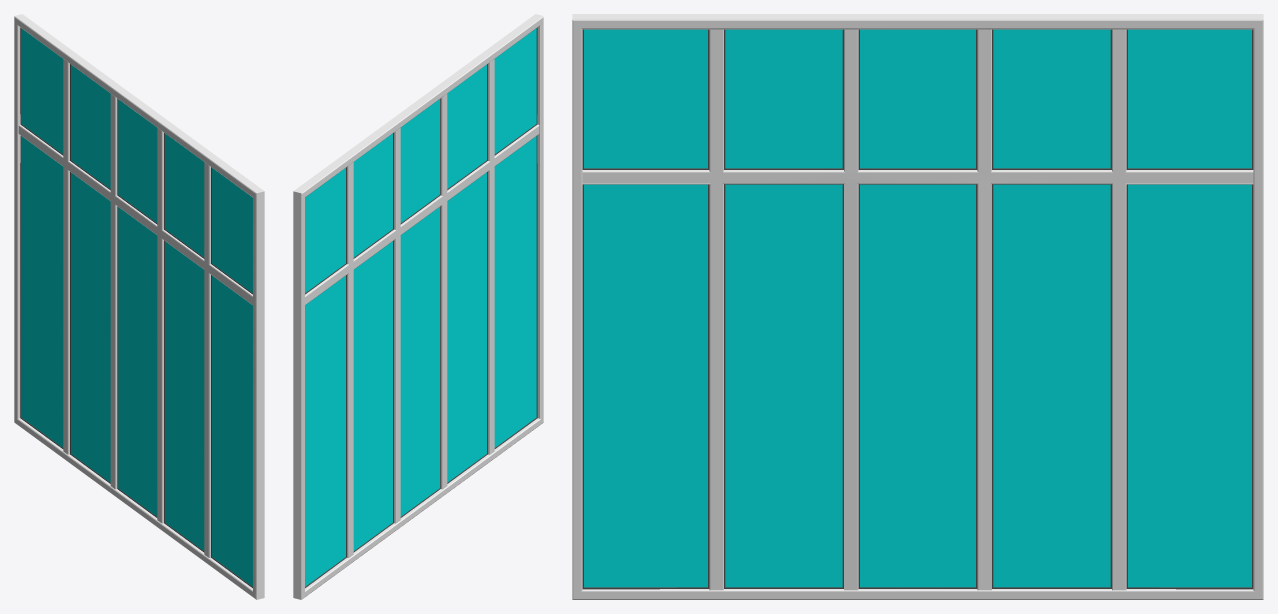
The model's file is sm_window_01.fbx.
The picture shows the model from 3 angles, left to right: view 1: azimuth 30°, elevation 25°; view 2: azimuth 150°, elevation 25°; view 3: azimuth 270°, elevation 25°; orthographic projection. The views are drawn at different scales.
Parts seen in each view (by area): view 1: sm_window_glass_01, sm_window_01, sm_window_frame_small_01; view 2: sm_window_glass_01, sm_window_01, sm_window_frame_small_01; view 3: sm_window_glass_01, sm_window_01, sm_window_frame_small_01.
Boxes of the visible parts, x1,y1,x2,y2 form: sm_window_glass_01: (21,28,252,586); sm_window_01: (14,14,264,599); sm_window_frame_small_01: (20,27,252,587); sm_window_glass_01: (305,28,536,586); sm_window_01: (293,14,543,599); sm_window_frame_small_01: (305,27,537,587); sm_window_glass_01: (584,29,1251,587); sm_window_01: (572,14,1263,599); sm_window_frame_small_01: (582,29,1253,589).
Bounding box in the file's own units: 7.06 × 309 × 334.
